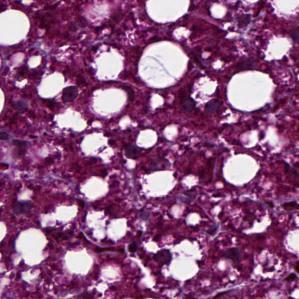steatosis: (136, 38, 190, 90), (226, 68, 279, 116), (219, 151, 263, 185), (90, 87, 127, 116)
